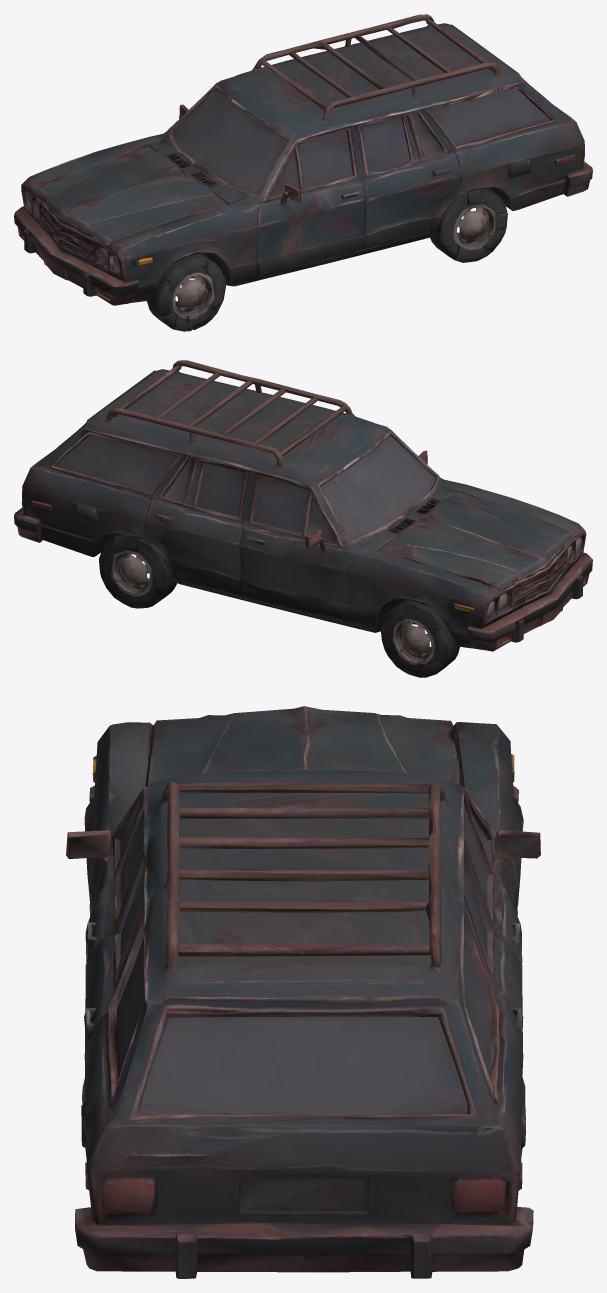
File: car_station_wagon_b_idle.glb
3 views of the same model, one above another, from view 1: azimuth 30°, elevation 25°; view 2: azimuth 150°, elevation 25°; view 3: azimuth 270°, elevation 25° (orthographic). The views are drawn at different scales.
Parts seen in each view (by area): view 1: tripo_node_87d09e9a-3342-4280-a9b8-b9699239bf94; view 2: tripo_node_87d09e9a-3342-4280-a9b8-b9699239bf94; view 3: tripo_node_87d09e9a-3342-4280-a9b8-b9699239bf94.
Boxes of the visible parts, x1,y1,x2,y2 form: tripo_node_87d09e9a-3342-4280-a9b8-b9699239bf94: (14, 14, 592, 331); tripo_node_87d09e9a-3342-4280-a9b8-b9699239bf94: (14, 360, 592, 677); tripo_node_87d09e9a-3342-4280-a9b8-b9699239bf94: (66, 706, 540, 1278).
Size of the model in its own units: 4.8 by 1.66 by 1.99.
1 material, 1 textured.
